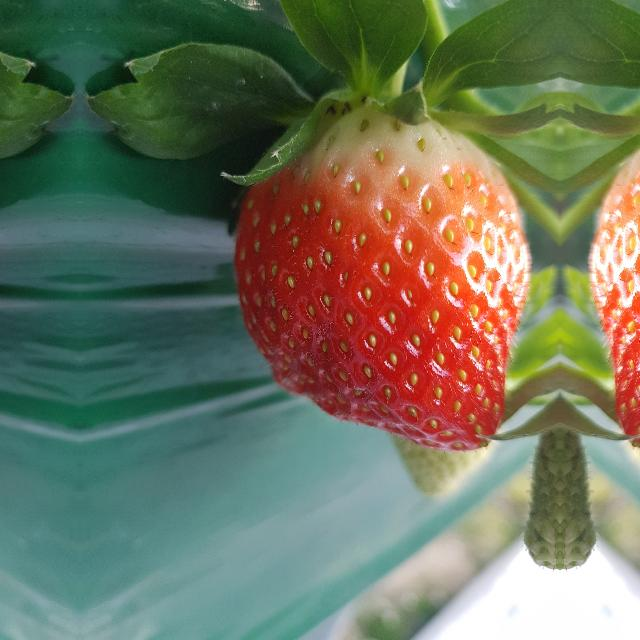Health_100: (233, 102, 533, 454)
